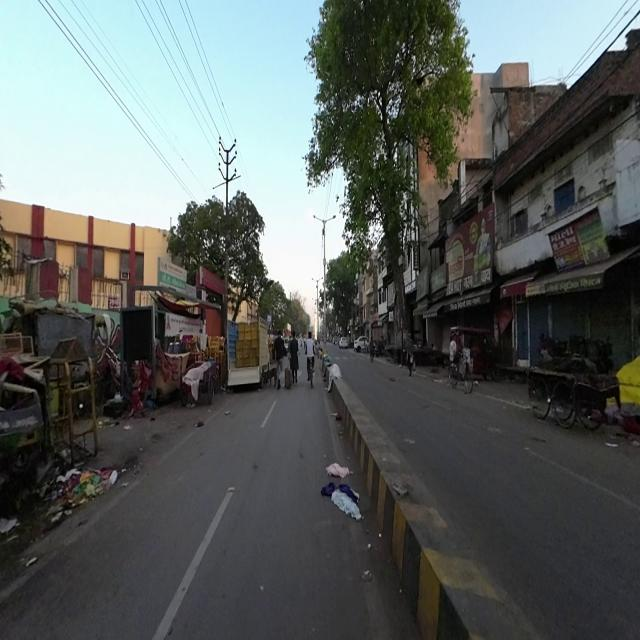Garbage: (50, 468, 119, 514)
